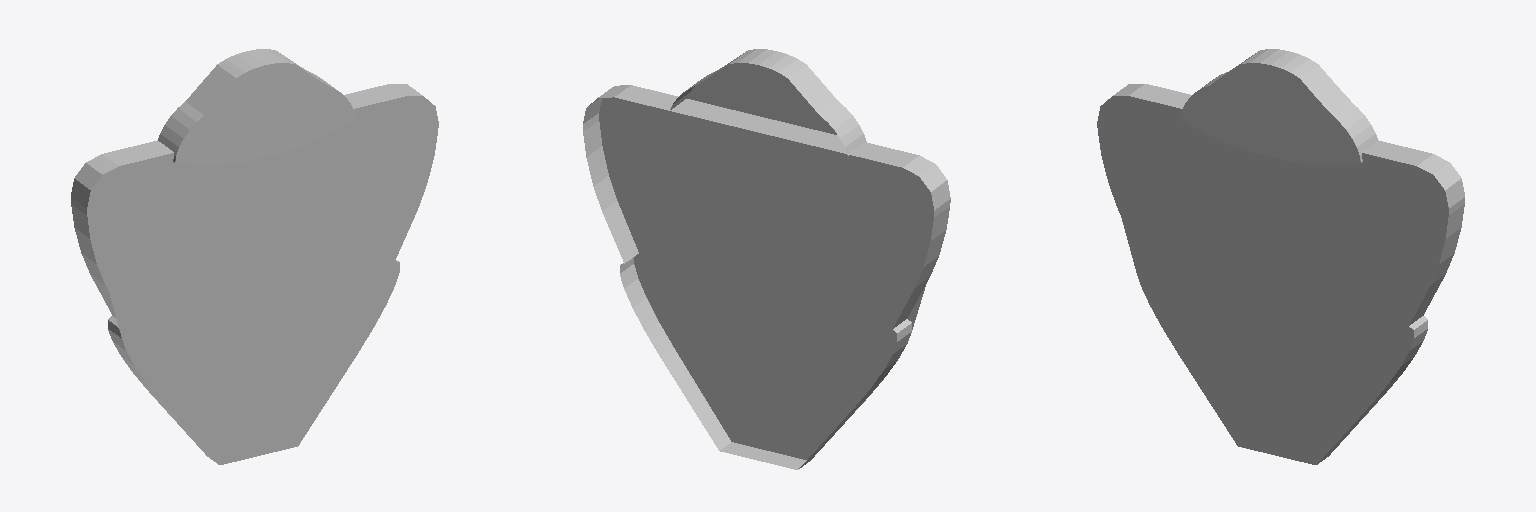
The model's file is SetA_WallSymbol_Style_06.obj.
The picture shows the model from 3 angles: view 1: azimuth 30°, elevation 25°; view 2: azimuth 150°, elevation 25°; view 3: azimuth 330°, elevation 25°; orthographic projection.
Parts seen in each view (by area): view 1: SetA_WallSymbol_Style_06; view 2: SetA_WallSymbol_Style_06; view 3: SetA_WallSymbol_Style_06.
Part boxes in pixels (x1,y1,x2,y2): SetA_WallSymbol_Style_06: (71, 49, 438, 464); SetA_WallSymbol_Style_06: (583, 49, 950, 469); SetA_WallSymbol_Style_06: (1097, 49, 1464, 464).
Bounding box in the file's own units: 0.2472 × 0.2656 × 0.0231.